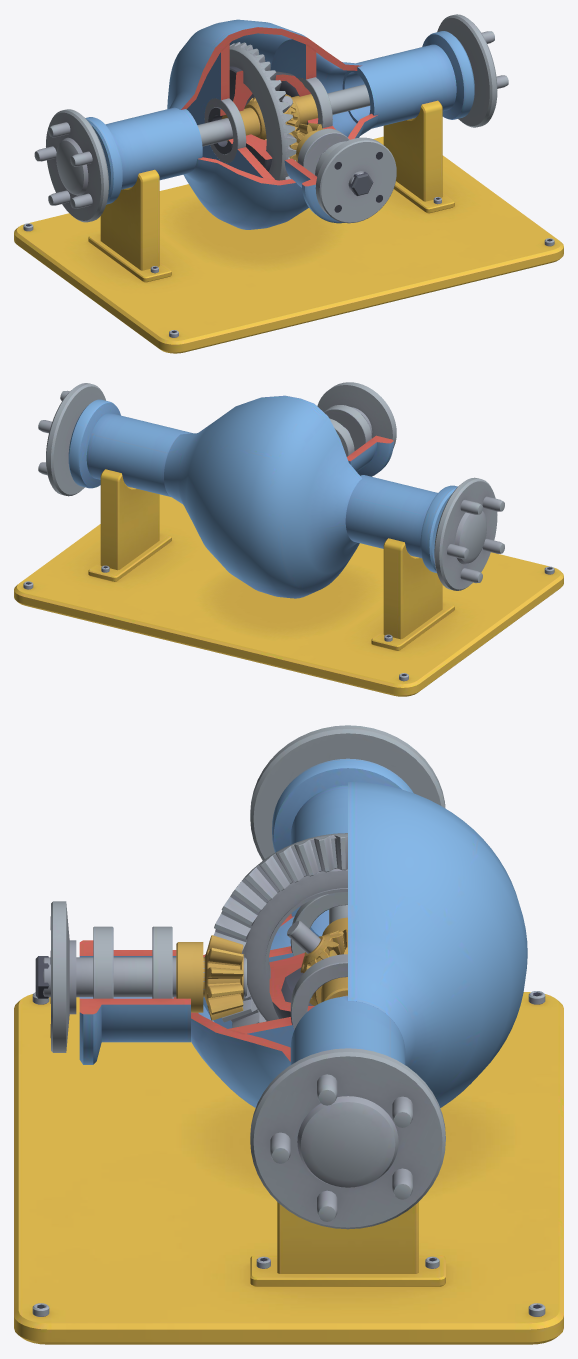
The model's file is grab3d-differential.glb.
The picture shows the model from 3 angles, top to bottom: view 1: azimuth 30°, elevation 25°; view 2: azimuth 150°, elevation 25°; view 3: azimuth 270°, elevation 25°; orthographic projection. The views are drawn at different scales.
Parts seen in each view (by area): view 1: differential_body, differential_rotor_a, differential_rotor_b; view 2: differential_body, differential_rotor_a, differential_rotor_b; view 3: differential_body, differential_rotor_a, differential_rotor_b.
Part boxes in pixels (<box>): differential_body: <box>14,19,563,353</box>; differential_rotor_a: <box>34,14,508,222</box>; differential_rotor_b: <box>289,123,396,223</box>; differential_body: <box>14,395,563,696</box>; differential_rotor_a: <box>38,383,504,590</box>; differential_rotor_b: <box>317,382,396,448</box>; differential_body: <box>14,758,563,1344</box>; differential_rotor_a: <box>213,725,445,1229</box>; differential_rotor_b: <box>35,901,246,1052</box>.
Size of the model in its own units: 0.503 by 0.2385 by 0.326.
3 materials, 3 textured.
